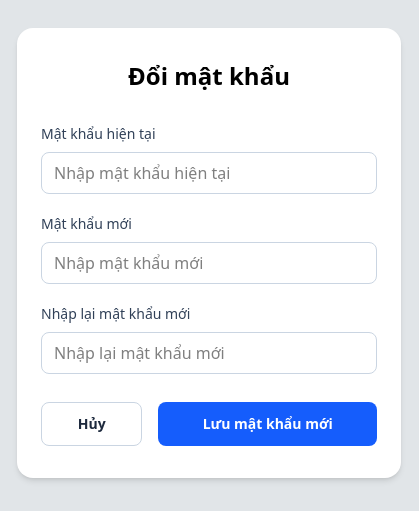
Test case: ChangePassword Page › Edge cases › submit_shouldShowMismatchError_whenConfirmPasswordNotMatch
The width and height of the screenshot is (419, 511).
In the password field labelled "Mật khẩu hiện tại": (209, 173) [41,152,377,194], type "OldPass!1"
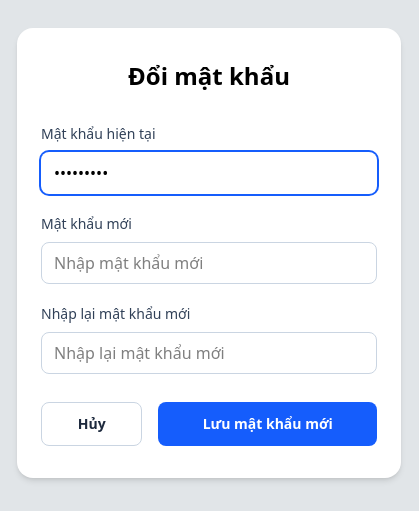
In the password field labelled "Mật khẩu mới": (209, 263) [41,242,377,284], type "NewPass!1"
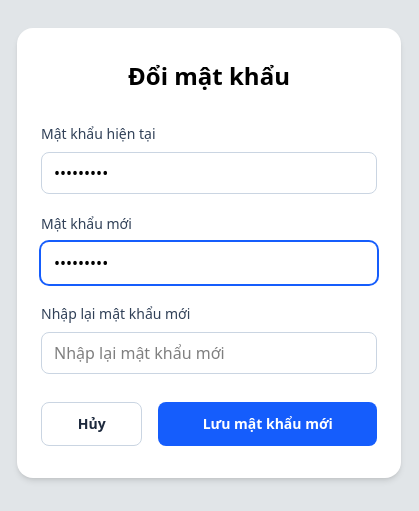
In the password field labelled "Nhập lại mật khẩu mới": (209, 353) [41,332,377,374], type "NewPass!2"
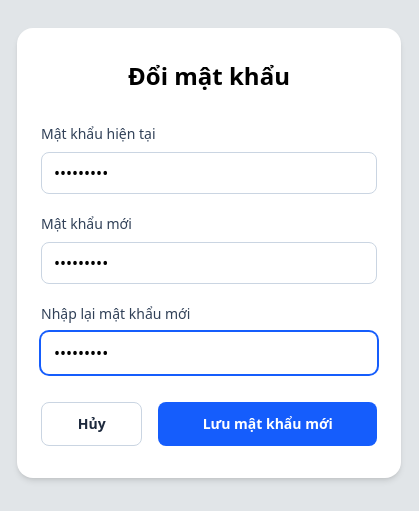
Click the button "Lưu mật khẩu mới": click(268, 424) [158,402,377,446]
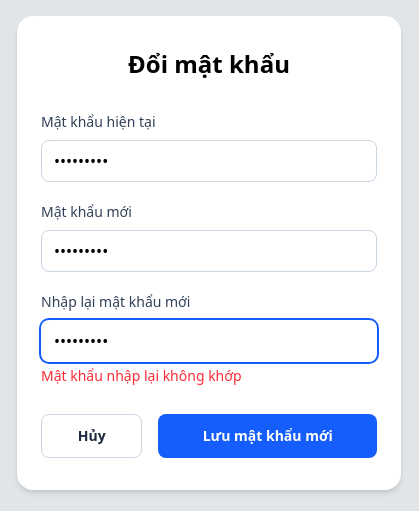
Result: the text "Mật khẩu nhập lại không khớp" is shown at [41,366,242,385]
